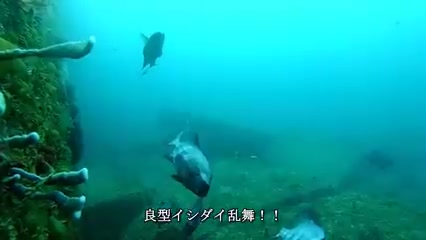smallfish: (161, 130, 215, 200)
